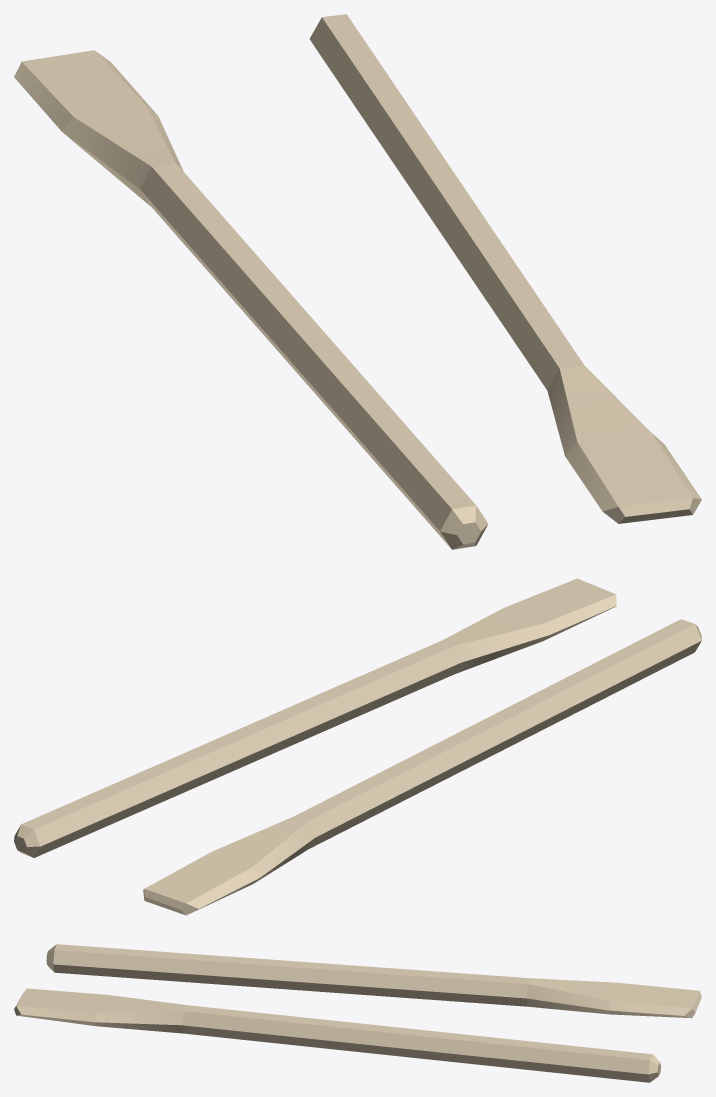
Rendered from remos1.glb.
3 renders of one model, top to bottom at view 1: azimuth 30°, elevation 25°; view 2: azimuth 150°, elevation 25°; view 3: azimuth 270°, elevation 25°, orthographic. The views are drawn at different scales.
Visible parts, largest first — view 1: object2, object1; view 2: object1, object2; view 3: object2, object1.
Boxes of the visible parts, x1,y1,x2,y2 form: object2: (14,50,488,549); object1: (309,14,701,523); object1: (14,578,616,857); object2: (143,619,701,915); object2: (46,944,701,1018); object1: (14,988,660,1082).
Bounding box in the file's own units: 0.6285 × 0.0541 × 1.5.
